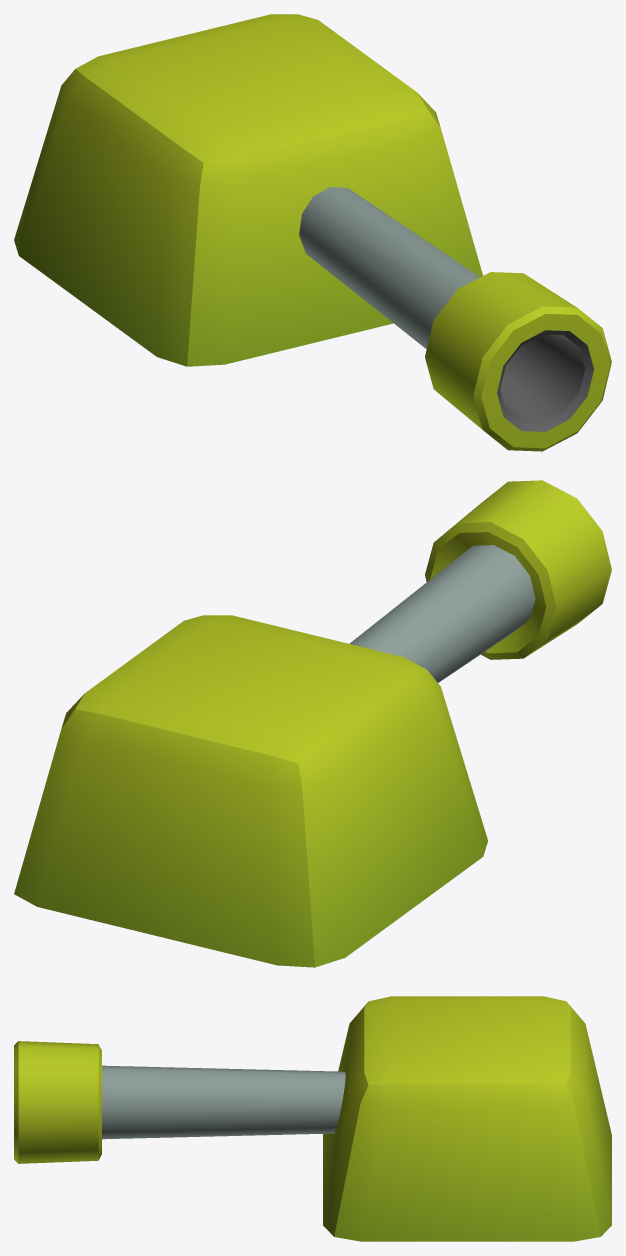
The model's file is Barrel.gltf.
The picture shows the model from 3 angles, top to bottom: view 1: azimuth 30°, elevation 25°; view 2: azimuth 150°, elevation 25°; view 3: azimuth 270°, elevation 25°; orthographic projection. The views are drawn at different scales.
Parts seen in each view (by area): view 1: Barrel; view 2: Barrel; view 3: Barrel.
Part boxes in pixels (x1=…): Barrel: x1=14, y1=14, x2=611, y2=451; Barrel: x1=14, y1=480, x2=611, y2=967; Barrel: x1=14, y1=996, x2=611, y2=1241.
Bounding box in the file's own units: 0.2885 × 0.1618 × 0.5947.
Materials: 1 (1 with a texture image).
